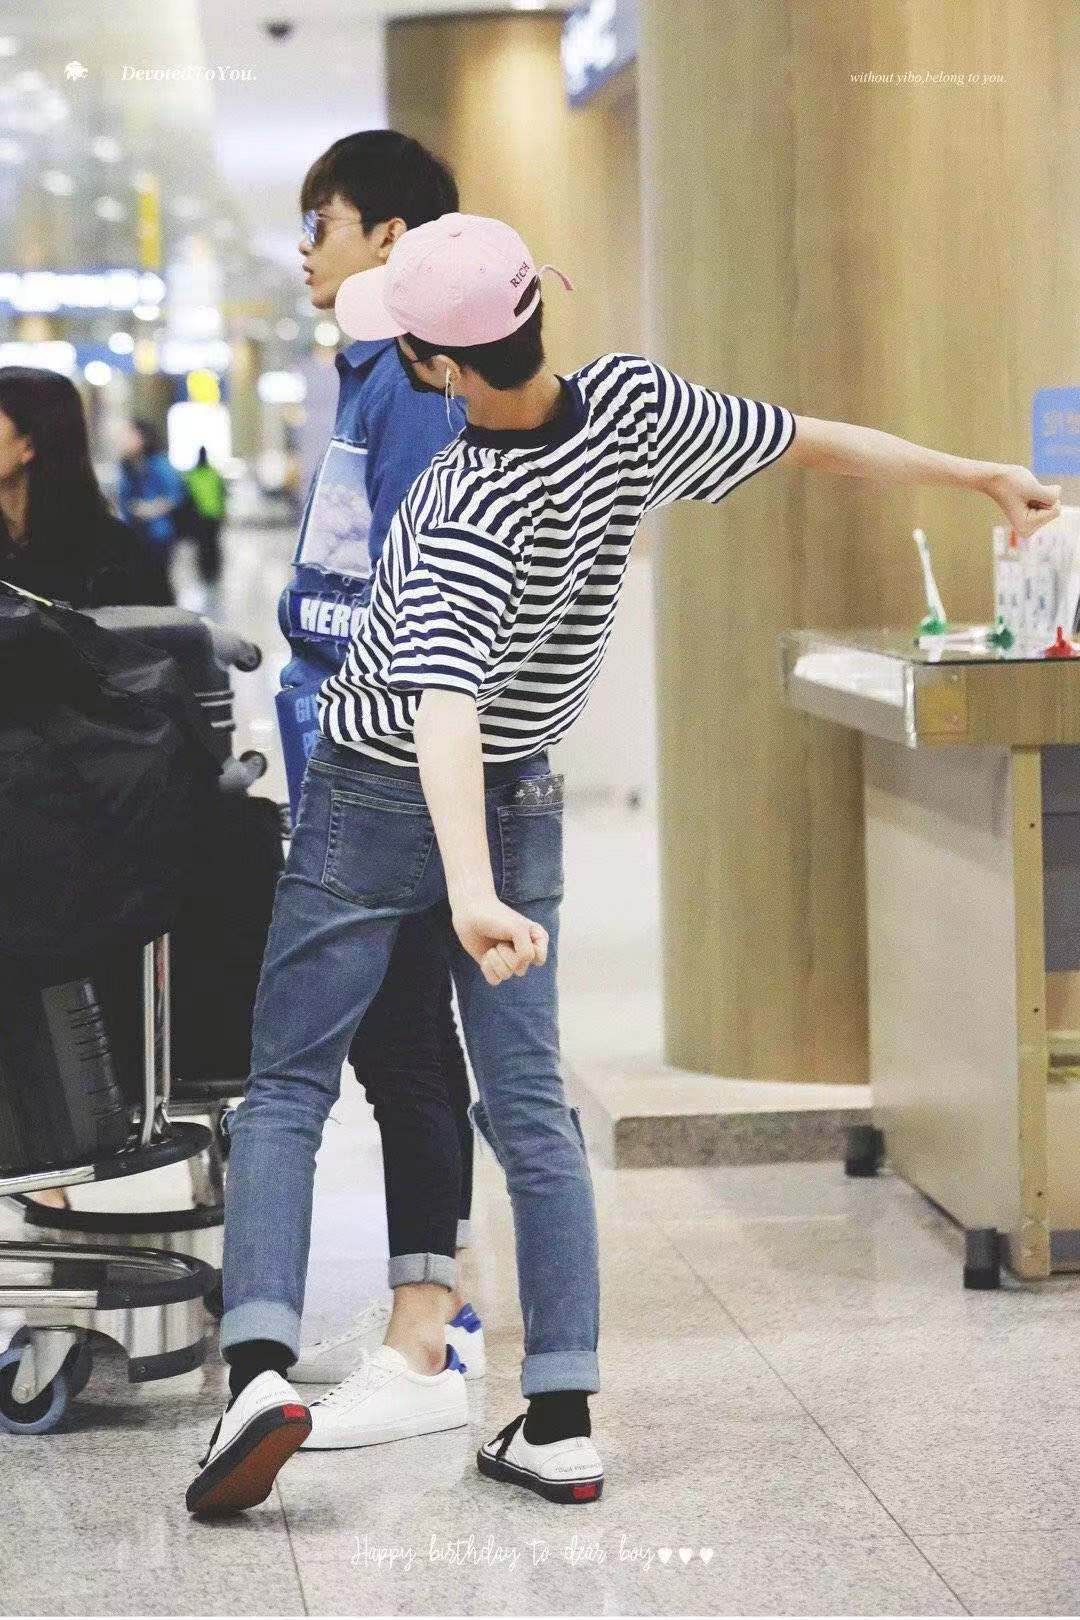bag: (1, 590, 219, 965)
luggage: (89, 580, 289, 805), (1, 977, 161, 1202), (171, 787, 274, 1087)
people: (231, 190, 769, 1537), (281, 140, 494, 1485)
